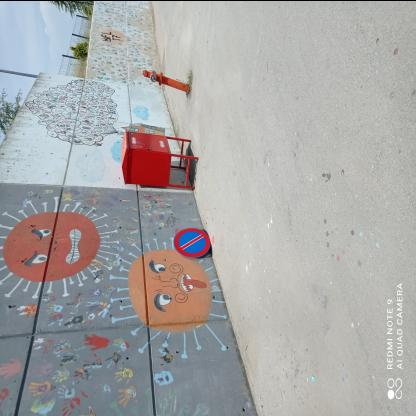No Waiting: (174, 228, 212, 258)
